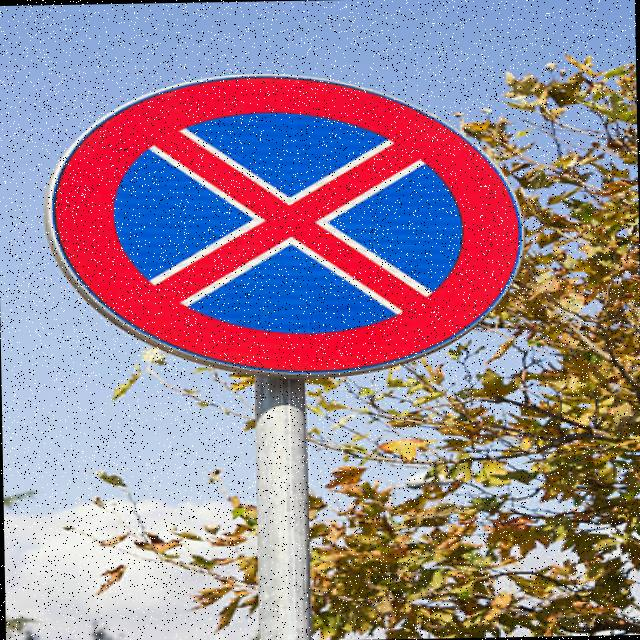no_parking: (16, 59, 573, 406)
